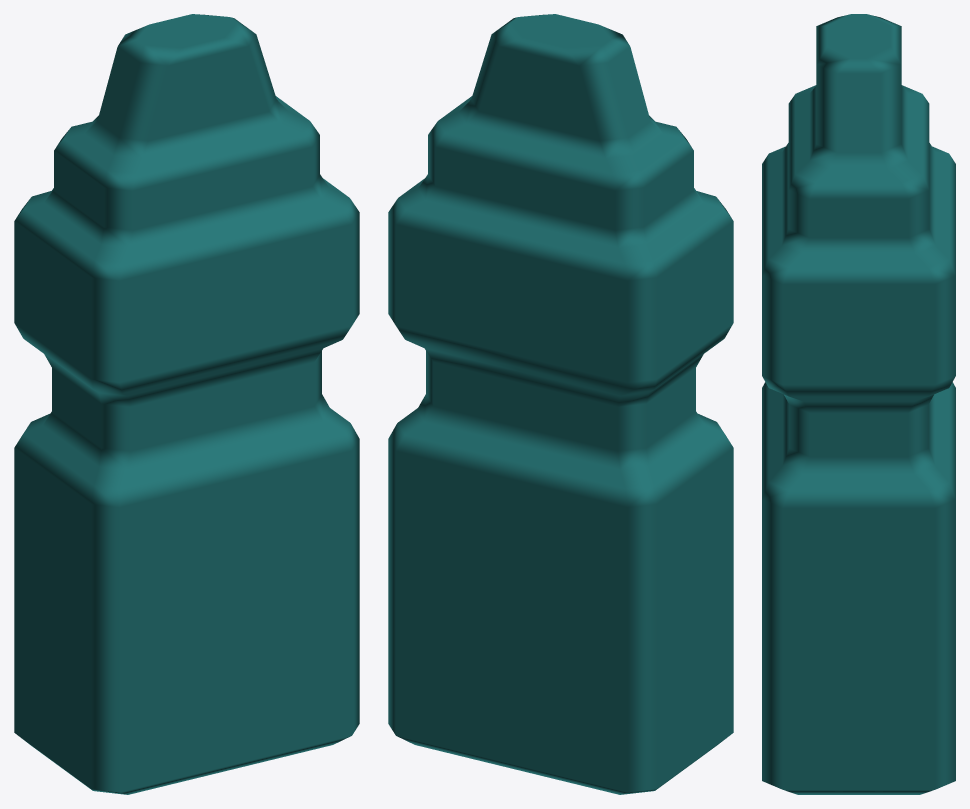
The model's file is SM_Gate_Podium.fbx.
3 views of the same model, side by side, from view 1: azimuth 30°, elevation 25°; view 2: azimuth 150°, elevation 25°; view 3: azimuth 270°, elevation 25° (orthographic).
Visible parts, largest first — view 1: Object029; view 2: Object029; view 3: Object029.
Part boxes in pixels (box(x1,y1,x2,y2)): Object029: box(14, 14, 359, 794); Object029: box(388, 14, 733, 794); Object029: box(762, 14, 955, 794).
Size of the model in its own units: 80.98 by 204 by 51.27.
